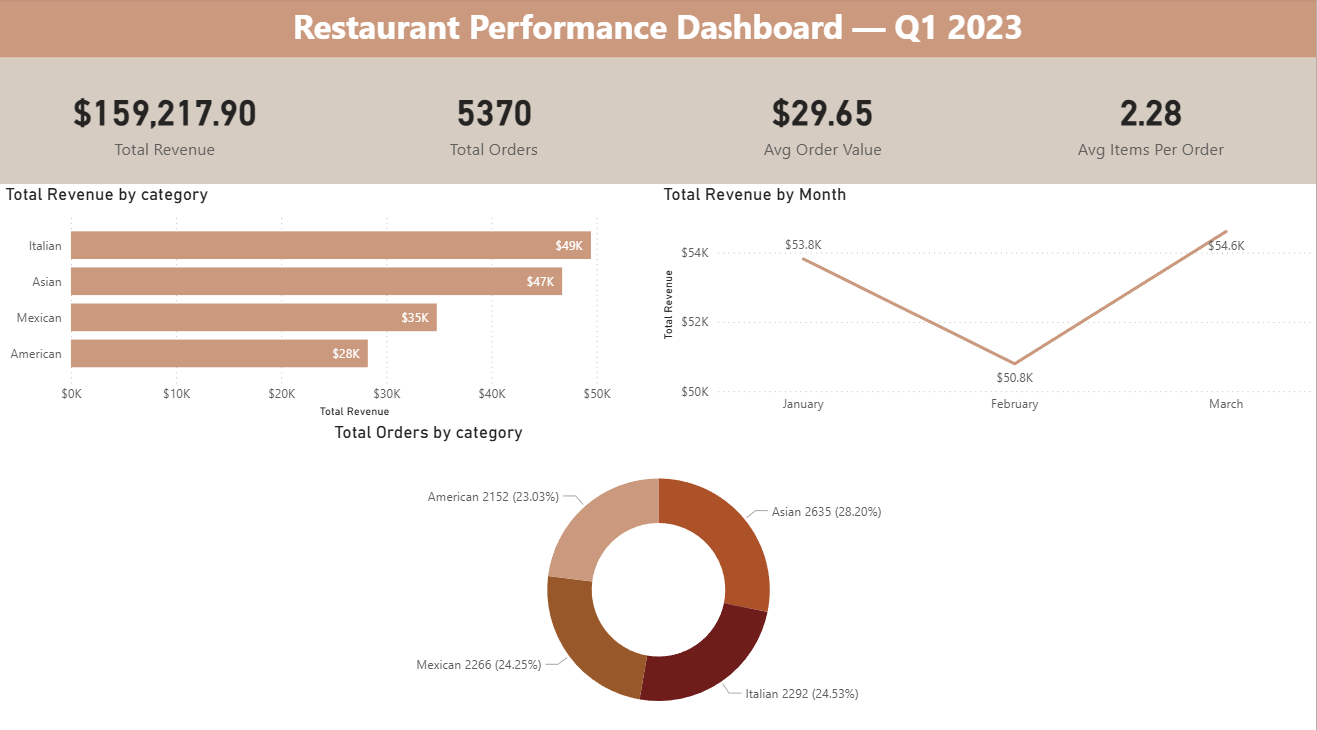

This screenshot's page, from the dashboard's own definition file:
{"tool":"powerbi","page":{"name":"KPI Overview","canvas":[1280,720],"ordinal":0},"visuals":[{"type":"card","fields":{"Values":["Measures1.Total Revenue"]},"box":[0,58.2,320.6,122.7],"z":0},{"type":"card","fields":{"Values":["Measures1.Total Orders"]},"box":[319.7,58.2,320.6,122.7],"z":1000},{"type":"card","fields":{"Values":["Measures1.Avg Order Value"]},"box":[640.3,58.2,320.6,122.7],"z":2000},{"type":"card","fields":{"Values":["Measures1.Avg Items Per Order"]},"box":[959.1,58.2,320.6,122.7],"z":3000},{"type":"textbox","box":[0,0,1280,58.4],"z":4000},{"type":"clusteredBarChart","fields":{"Category":["menu_items_exp.category"],"Y":["Measures1.Total Revenue"]},"box":[0,180.9,640,231.5],"z":5000},{"type":"lineChart","fields":{"Category":["order_details_exp.order_date.Variation.Date Hierarchy.Month"],"Y":["Measures1.Total Revenue"]},"box":[640,180.9,640,231.5],"z":6000},{"type":"donutChart","fields":{"Category":["menu_items_exp.category"],"Y":["Measures1.Total Orders"]},"box":[320,412.4,641,307.4],"z":7000}]}

Visuals, with their boxes in screenshot pixels (x1, y1, x2, y2), scaled from the page's 1280x720 canvas onto the 1317x730 screenshot:
card - Measures1.Total Revenue: l=0, t=59, r=330, b=183
card - Measures1.Total Orders: l=329, t=59, r=659, b=183
card - Measures1.Avg Order Value: l=659, t=59, r=989, b=183
card - Measures1.Avg Items Per Order: l=987, t=59, r=1316, b=183
textbox: l=0, t=0, r=1316, b=59
clusteredBarChart - menu_items_exp.category x Measures1.Total Revenue: l=0, t=183, r=658, b=418
lineChart - order_details_exp.order_date.Variation.Date Hierarchy.Month x Measures1.Total Revenue: l=658, t=183, r=1316, b=418
donutChart - menu_items_exp.category x Measures1.Total Orders: l=329, t=418, r=989, b=729
